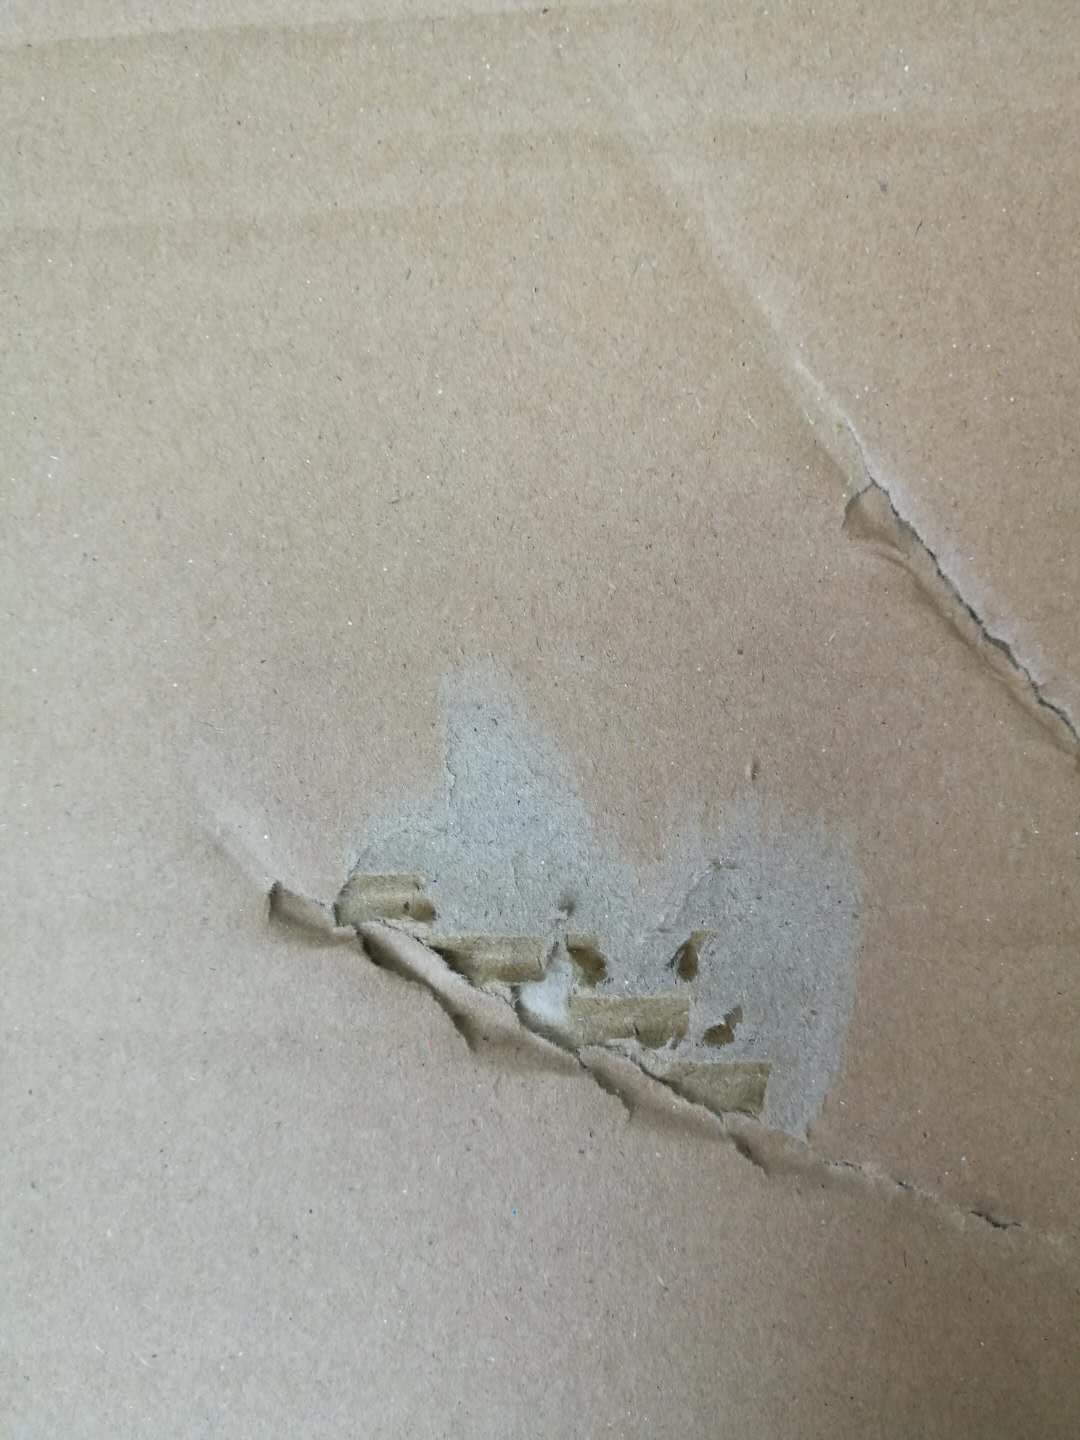defect: (171, 621, 1080, 1306), (591, 79, 1080, 790)
